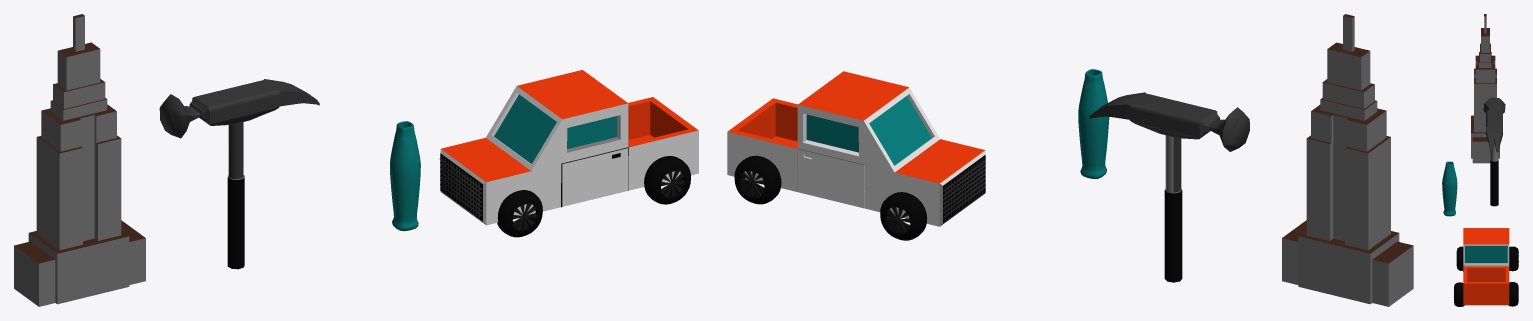
The model's file is Surface_Demo.obj.
The picture shows the model from 3 angles, left to right: view 1: azimuth 30°, elevation 25°; view 2: azimuth 150°, elevation 25°; view 3: azimuth 270°, elevation 25°; orthographic projection. The views are drawn at different scales.
Parts seen in each view (by area): view 1: Truck Truck_Body, EmpireStateBuilding, Hammer_Head Hammer, Bottle, Tires_Grill Truck Truck_Extras Models_Homework:i_fucked_up:Model, Hammer Hammer_Handle, Tires_Grill Truck Models_Homework:i_fucked_up:Models_Homework:pC; view 2: Truck Truck_Body, EmpireStateBuilding, Hammer_Head Hammer, Tires_Grill Truck Truck_Extras Models_Homework:i_fucked_up:Model, Bottle, Hammer Hammer_Handle; view 3: Truck Truck_Body, EmpireStateBuilding, Hammer_Head Hammer, Bottle, Tires_Grill Truck Truck_Extras Models_Homework:i_fucked_up:Model, Hammer Hammer_Handle, Tires_Grill Truck Models_Homework:i_fucked_up:Models_Homework:pC.
Part boxes in pixels (x1,y1,x2,y2): Truck Truck_Body: (440, 70, 698, 225); EmpireStateBuilding: (14, 14, 145, 306); Hammer_Head Hammer: (159, 79, 319, 138); Bottle: (390, 121, 420, 231); Tires_Grill Truck Truck_Extras Models_Homework:i_fucked_up:Model: (439, 156, 690, 217); Hammer Hammer_Handle: (227, 122, 244, 269); Tires_Grill Truck Models_Homework:i_fucked_up:Models_Homework:pC: (497, 190, 542, 237); Truck Truck_Body: (727, 71, 985, 226); EmpireStateBuilding: (1282, 14, 1413, 306); Hammer_Head Hammer: (1089, 92, 1249, 151); Tires_Grill Truck Truck_Extras Models_Homework:i_fucked_up:Model: (734, 155, 985, 240); Bottle: (1078, 69, 1109, 178); Hammer Hammer_Handle: (1164, 135, 1182, 282); Truck Truck_Body: (1463, 228, 1509, 305); EmpireStateBuilding: (1471, 14, 1499, 163); Hammer_Head Hammer: (1483, 97, 1505, 152); Bottle: (1442, 161, 1457, 216); Tires_Grill Truck Truck_Extras Models_Homework:i_fucked_up:Model: (1454, 246, 1518, 306); Hammer Hammer_Handle: (1490, 144, 1498, 206); Tires_Grill Truck Models_Homework:i_fucked_up:Models_Homework:pC: (1456, 246, 1463, 270).
Bounding box in the file's own units: 23.37 × 10.48 × 4.76.
